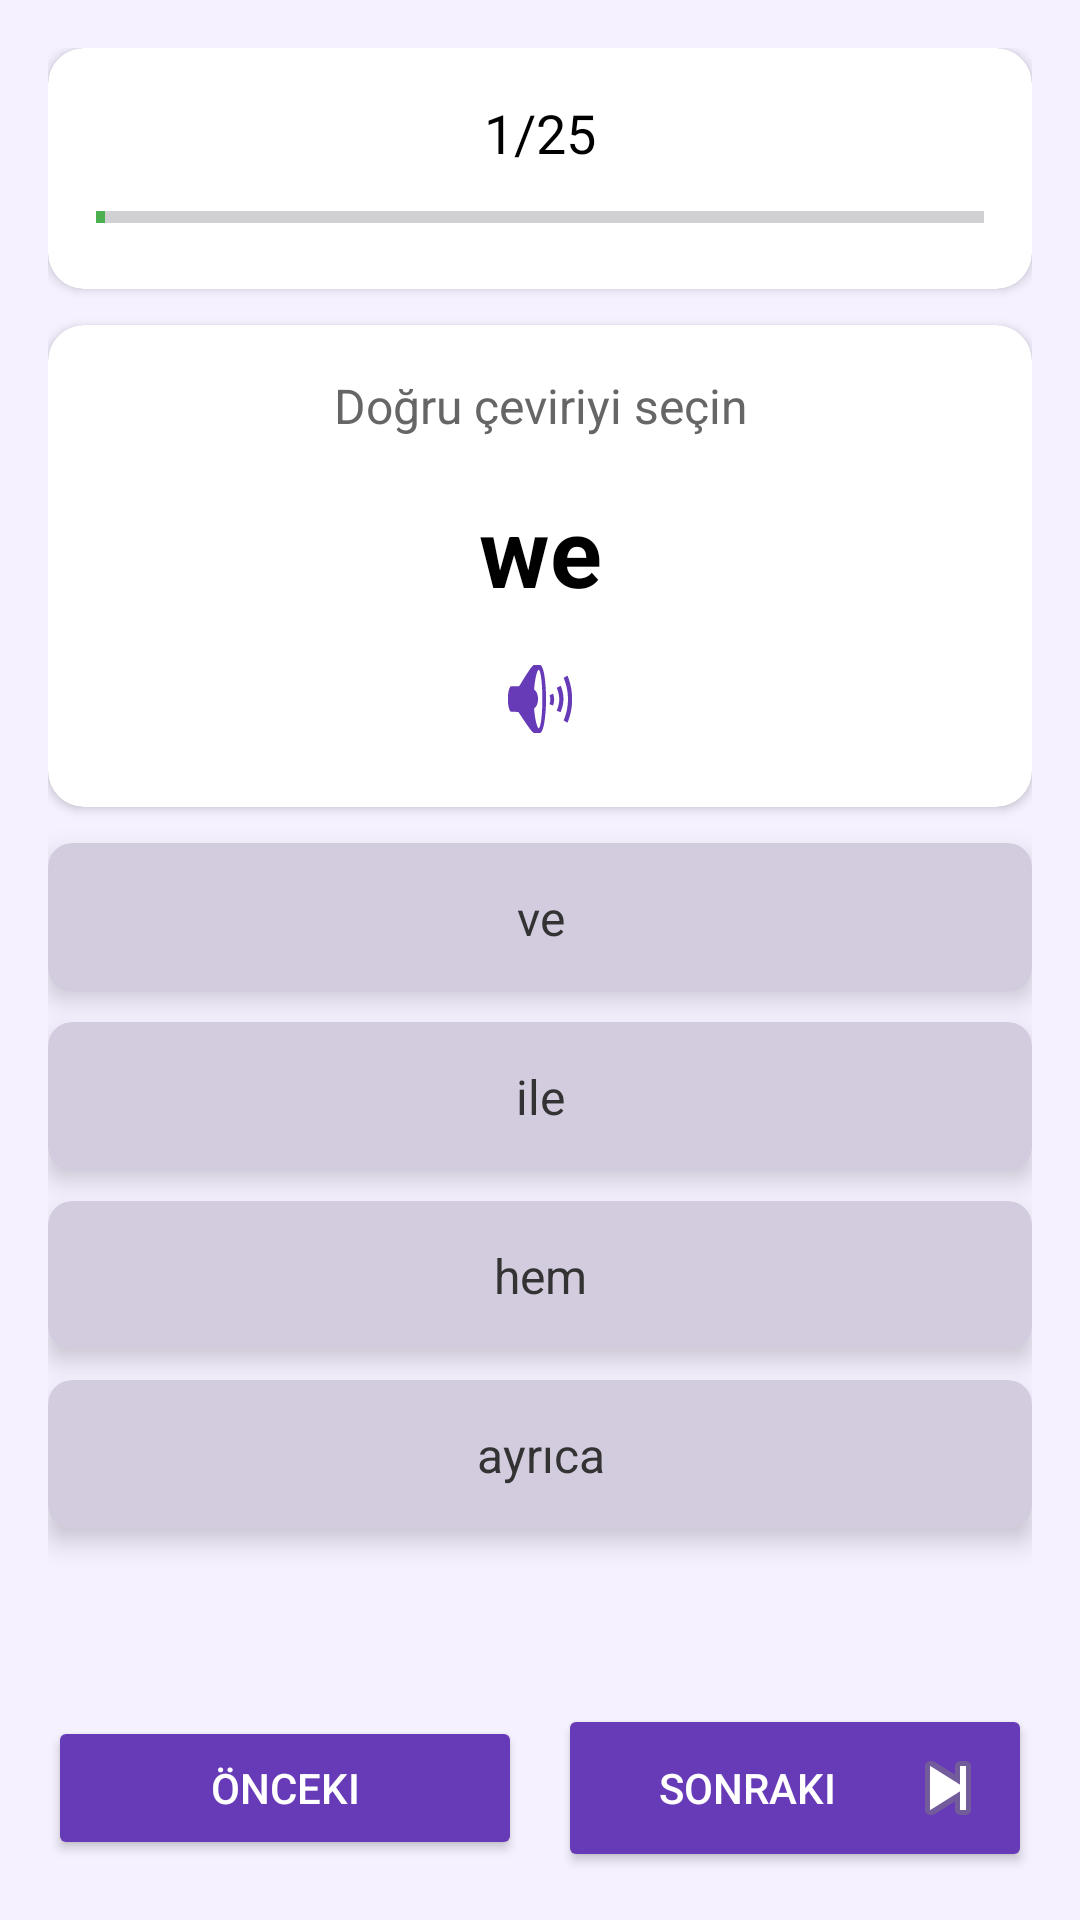

Named icons in this screenshot (1080×1920) and their centers, point (x, y):
Sesi dinle: point (540, 699)
